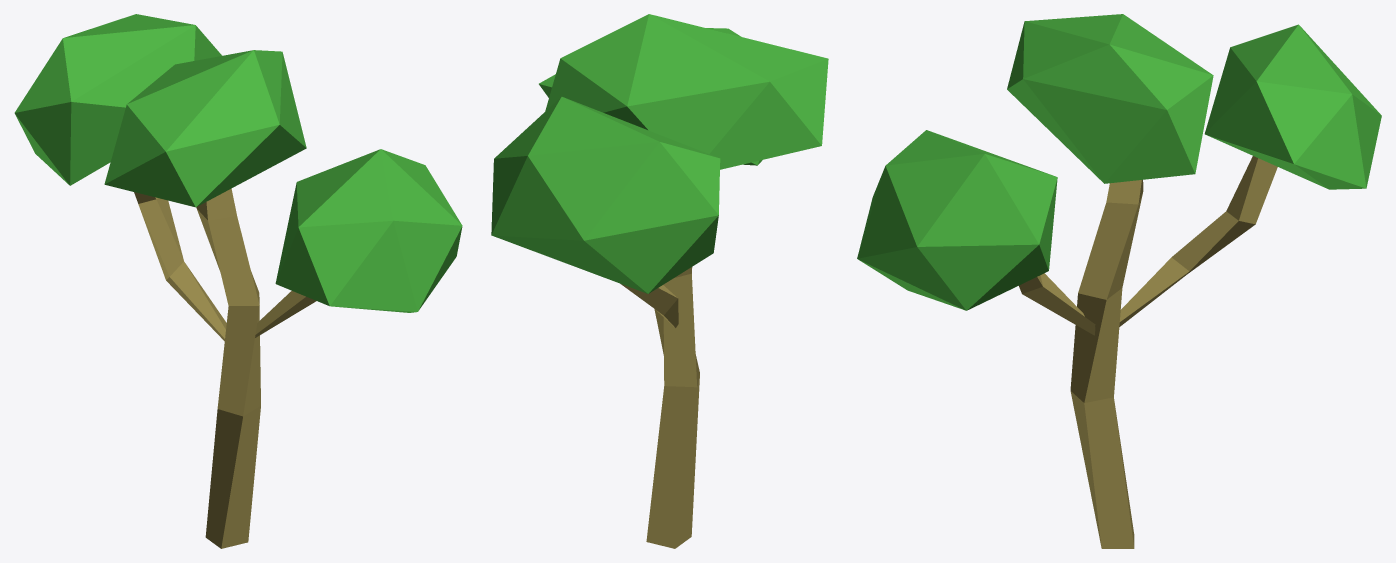
Rendered from MapleTree_9.fbx.
The picture shows the model from 3 angles, left to right: view 1: azimuth 30°, elevation 25°; view 2: azimuth 150°, elevation 25°; view 3: azimuth 270°, elevation 25°; orthographic projection. The views are drawn at different scales.
Visible parts, largest first — view 1: Leaves.001, Leaves.002, Leaves, Trunk, Trunk.002, Trunk.001; view 2: Leaves, Leaves.002, Trunk, Trunk.002; view 3: Leaves.001, Leaves.002, Leaves, Trunk, Trunk.002, Trunk.001.
Boxes of the visible parts, left/top/right/bottom form: Leaves.001: left=275, top=149, right=462, bottom=312; Leaves.002: left=104, top=50, right=306, bottom=207; Leaves: left=14, top=14, right=221, bottom=185; Trunk: left=196, top=188, right=260, bottom=548; Trunk.002: left=134, top=192, right=226, bottom=340; Trunk.001: left=255, top=291, right=316, bottom=337; Leaves: left=491, top=96, right=720, bottom=293; Leaves.002: left=545, top=14, right=828, bottom=169; Trunk: left=646, top=267, right=699, bottom=548; Trunk.002: left=621, top=284, right=678, bottom=327; Leaves.001: left=857, top=130, right=1057, bottom=310; Leaves.002: left=1007, top=14, right=1213, bottom=183; Leaves: left=1204, top=24, right=1381, bottom=189; Trunk: left=1070, top=179, right=1143, bottom=548; Trunk.002: left=1119, top=156, right=1277, bottom=326; Trunk.001: left=1019, top=273, right=1095, bottom=335.
Size of the model in its own units: 203 by 321 by 300.
